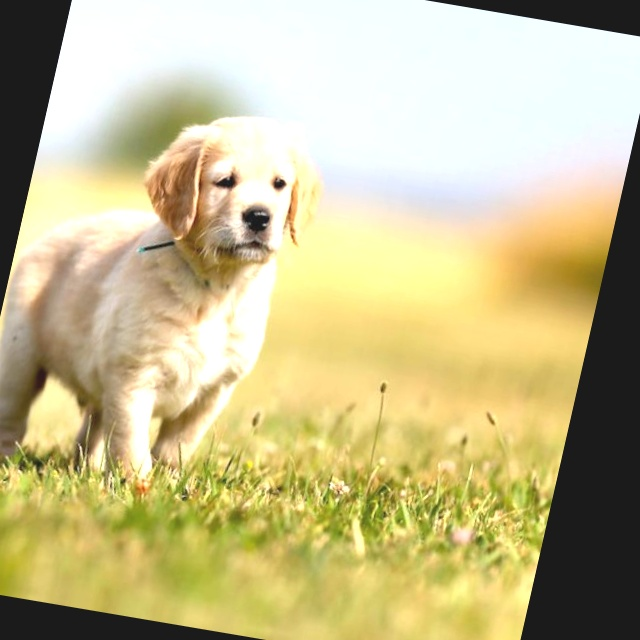dog: (0, 71, 359, 524)
